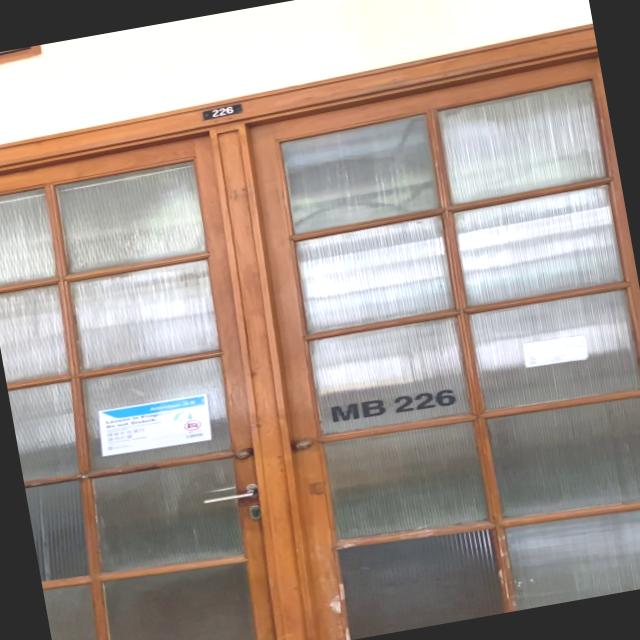room226: (199, 102, 244, 120)
room226Window: (321, 378, 465, 431)
